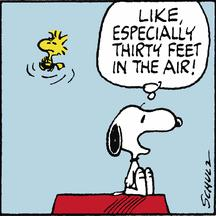snoopy: (104, 101, 184, 196)
